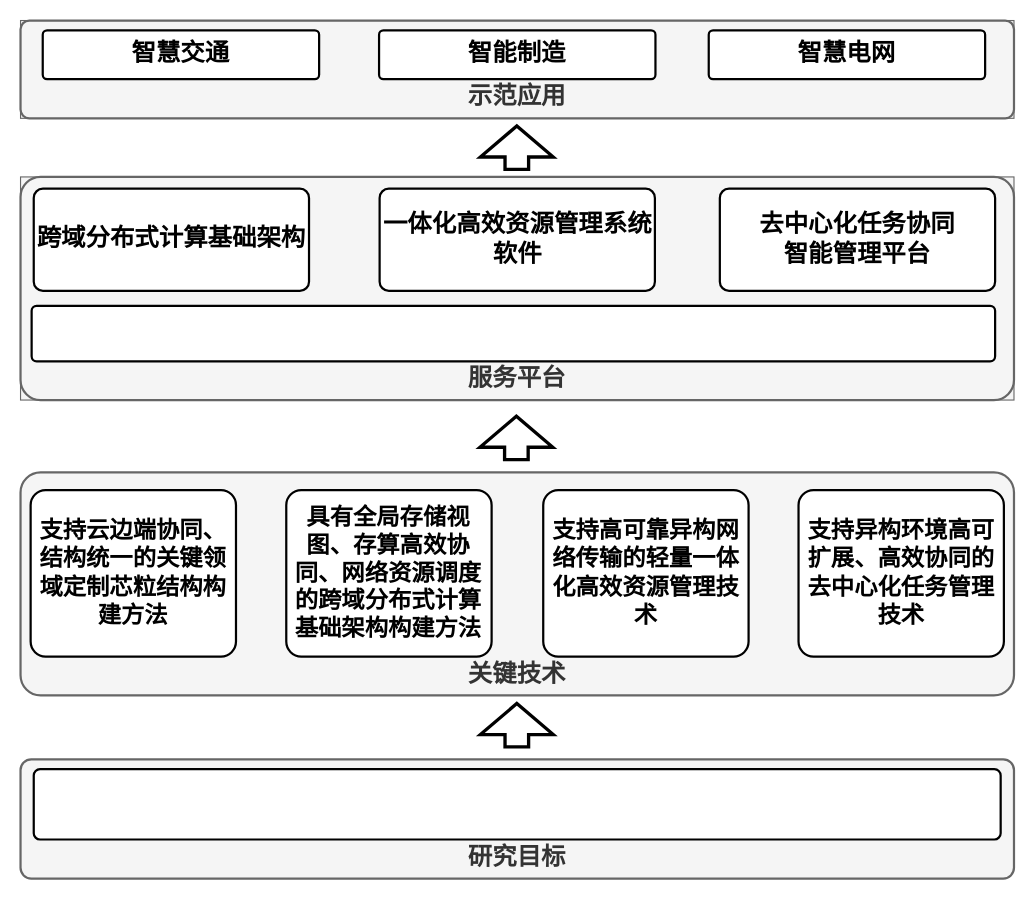
Image size: 1033x898. Some labels were removed from this diagram. The centre of each missing label's shape, as x and y in pixels:
"形成面向云边端协同的芯粒结构与系统软件 并在典型场景中开展应用验证" goes at [516,803].
"面向云边端协同的领域定制化芯粒结构" goes at [513,333].
